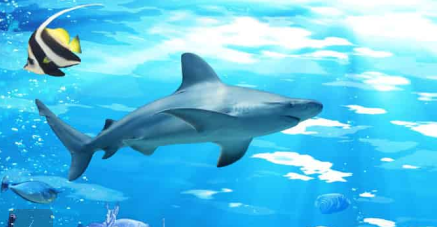fishRound: (23, 2, 105, 77), (0, 178, 58, 204), (314, 192, 351, 215)
shark: (34, 52, 323, 181)
